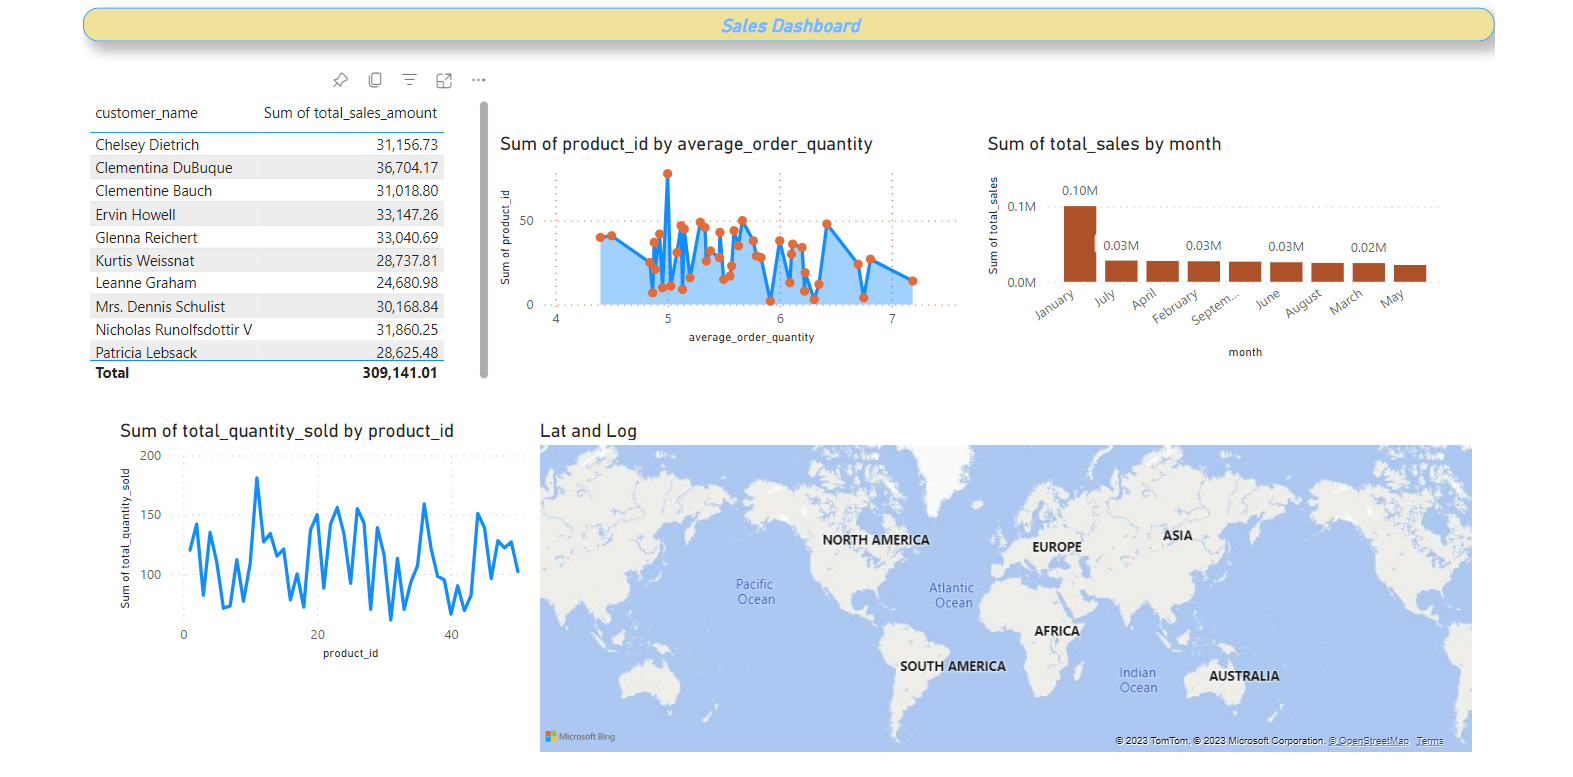

What the dashboard file says about the page in this screenshot:
{"tool":"powerbi","page":{"name":"Page 1","canvas":[1280,720],"ordinal":0},"visuals":[{"type":"tableEx","fields":{"Values":["sales amount_per_customer.customer_name","sales amount_per_customer.total_sales_amount"]},"box":[0,86.9,373.3,266],"z":0},{"type":"textbox","box":[0,353,380,252],"z":1000},{"type":"textbox","title":"Sales Dashboard","box":[0,8,1280.4,30.1],"z":2000},{"type":"stackedAreaChart","fields":{"Y":["avg_order_per_product.product_id"],"Category":["avg_order_per_product.average_order_quantity"]},"box":[373.3,121.5,426.5,196.8],"z":3000},{"type":"lineClusteredColumnComboChart","fields":{"Category":["top_selling_product.product_id"],"Y2":["top_selling_product.total_quantity_sold"]},"box":[28.4,381.3,381.3,223.4],"z":4000},{"type":"lineStackedColumnComboChart","fields":{"Category":["Month_wise.month"],"Y":["Month_wise.total_sales"]},"box":[814.9,121.5,423.8,210.1],"z":5000},{"type":"filledMap","fields":{"Y":["merged_data.lat"],"X":["merged_data.lng"]},"box":[408.8,381.3,854.8,307.7],"z":5001}]}

Visuals, with their boxes on the page's 1280x720 design canvas (x1, y1, x2, y2). These are canvas units, not pixel positions in the 1573x777 screenshot, which may show the page scaled, cropped or inside an application window:
tableEx - sales amount_per_customer.customer_name x sales amount_per_customer.total_sales_amount: region(0, 87, 373, 353)
textbox: region(0, 353, 380, 605)
"Sales Dashboard" textbox: region(0, 8, 1280, 38)
stackedAreaChart - avg_order_per_product.product_id x avg_order_per_product.average_order_quantity: region(373, 122, 800, 318)
lineClusteredColumnComboChart - top_selling_product.product_id x top_selling_product.total_quantity_sold: region(28, 381, 410, 605)
lineStackedColumnComboChart - Month_wise.month x Month_wise.total_sales: region(815, 122, 1239, 332)
filledMap - merged_data.lat x merged_data.lng: region(409, 381, 1264, 689)
